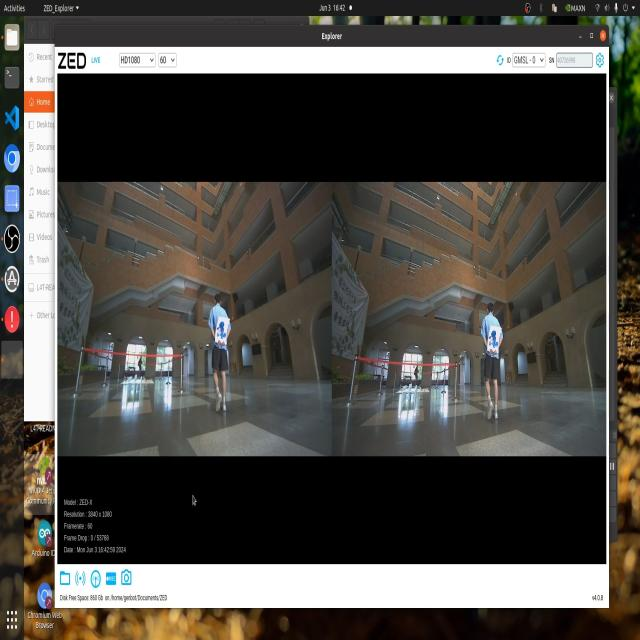blue: (218, 319, 233, 345), (484, 330, 499, 353)
